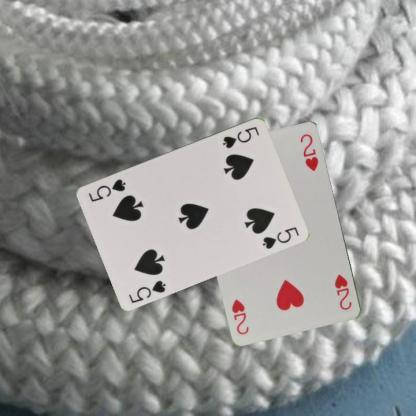2h: (332, 272, 354, 312)
5s: (126, 277, 168, 304), (220, 123, 261, 150)
